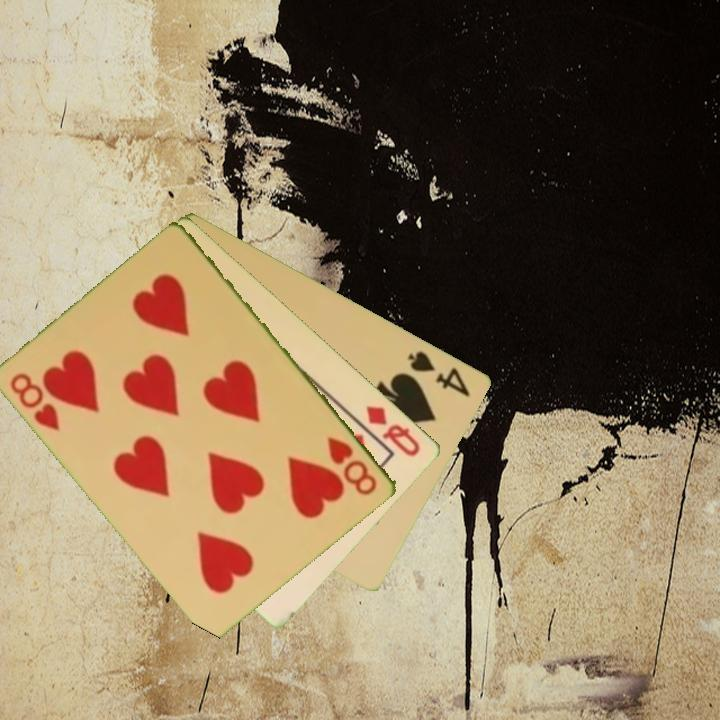4s: (405, 347, 474, 400)
8h: (324, 433, 381, 499), (7, 369, 64, 434)
Qd: (362, 401, 424, 460)
